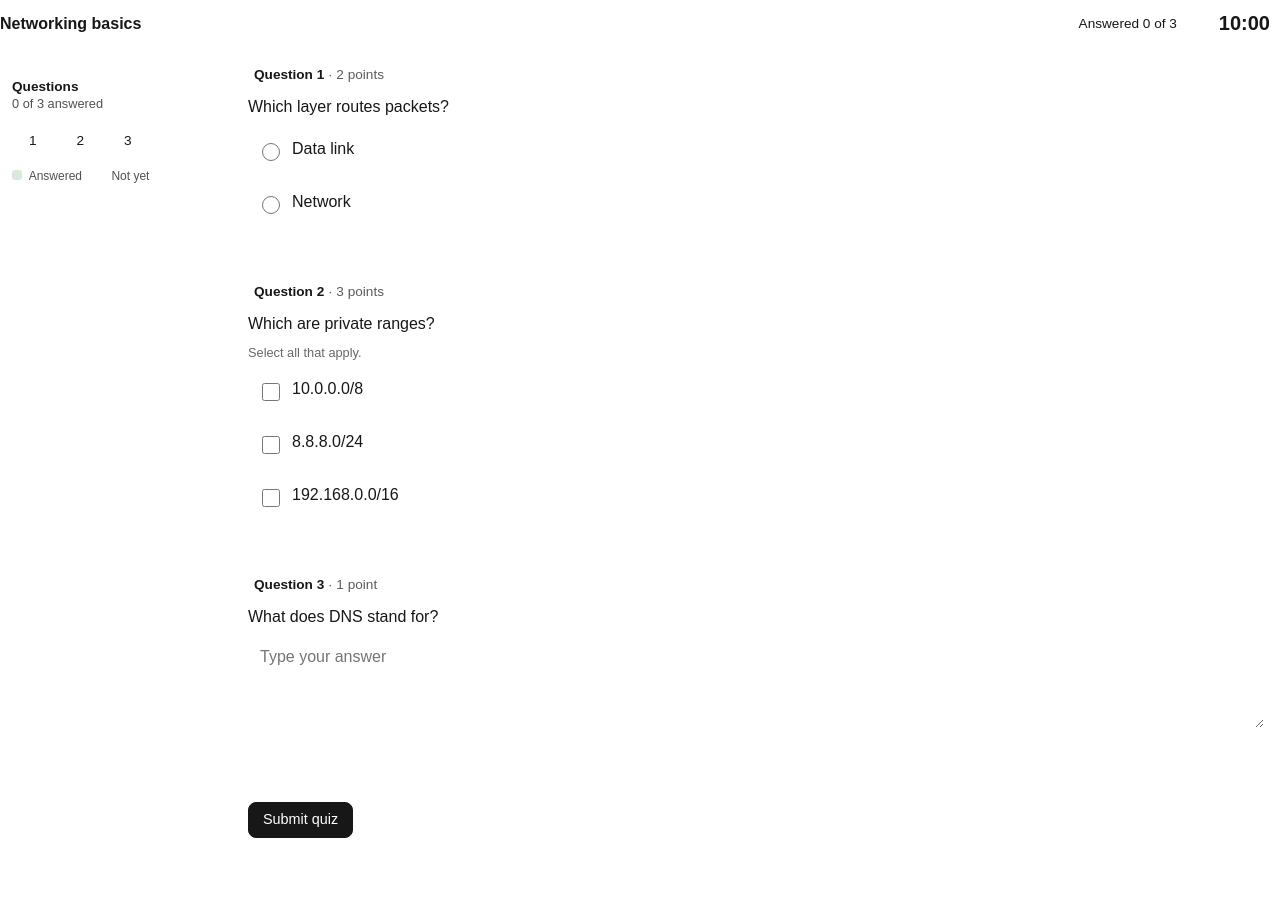
Scenario: AttemptRunner › retries a submit when the network is down, and stops once it goes through
What coordinates should you click on to do the following:
click the button "Submit quiz"
I would click on:
 (301, 820)
Its box is [248,802,353,838].
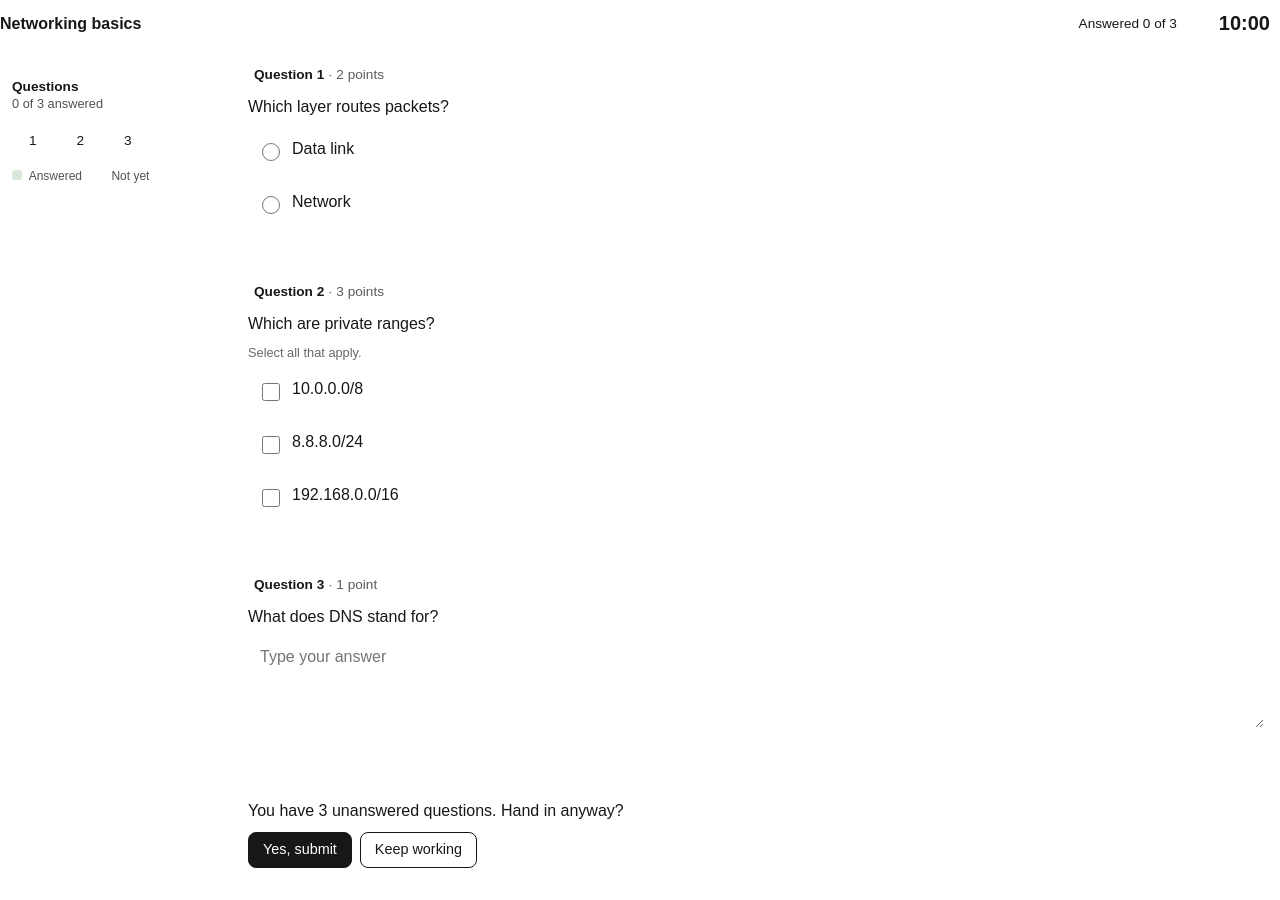
What coordinates should you click on to do the following:
click the button "Yes, submit"
I would click on:
 (300, 850)
Its box is [248,832,352,868].
Wait 26000 ms
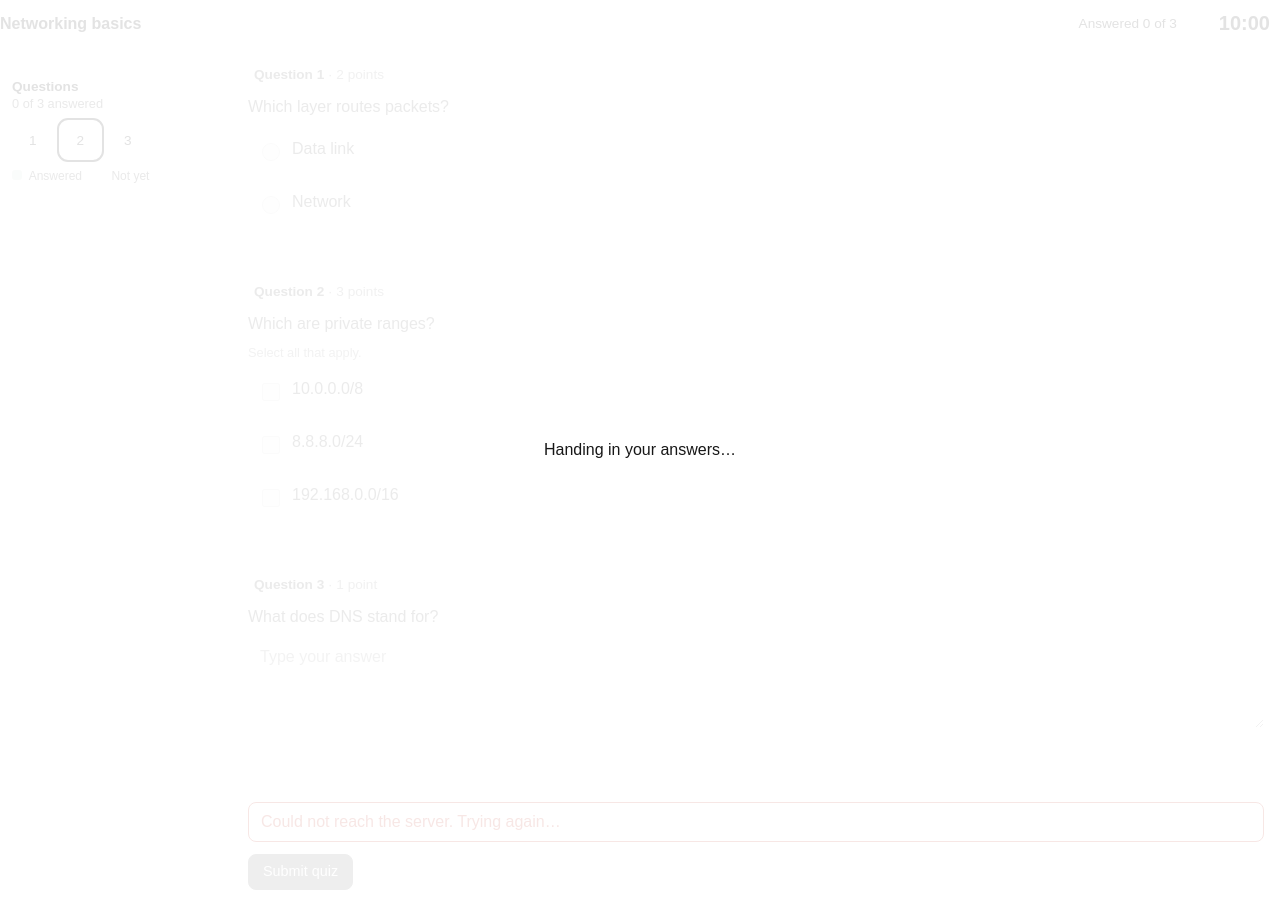
Result: the text "Could not reach the server. Trying again…" is shown at [248,802,1264,842]
